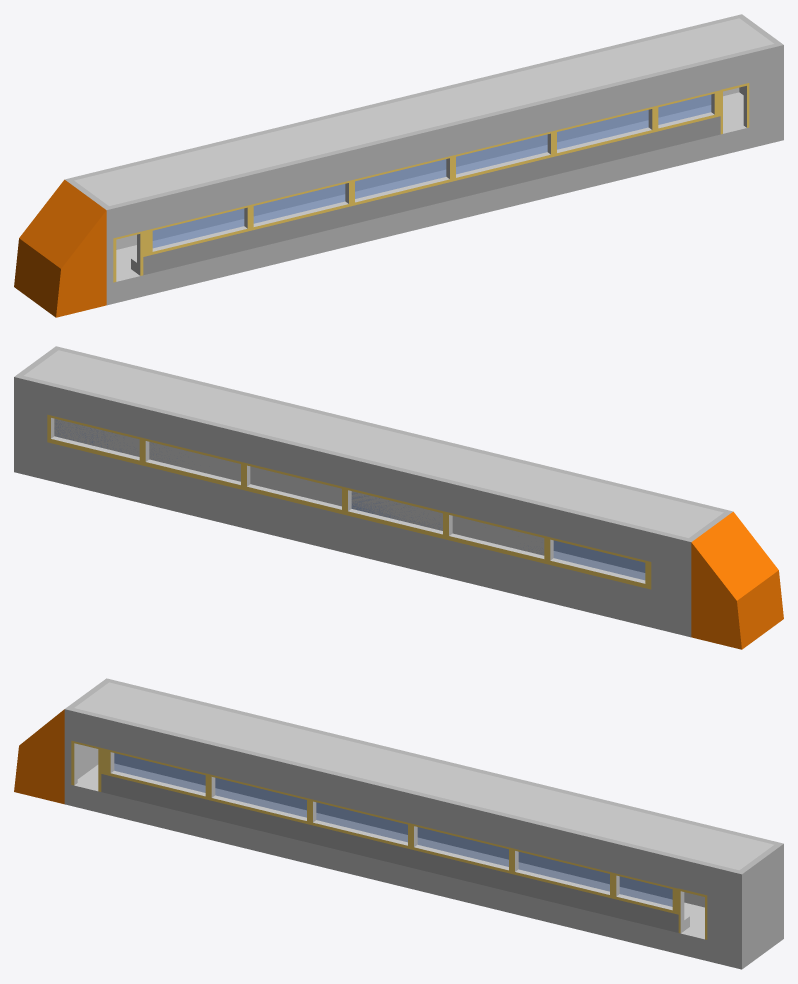
The model's file is Train-3.fbx.
3 views of the same model, one above another, from view 1: azimuth 30°, elevation 25°; view 2: azimuth 150°, elevation 25°; view 3: azimuth 330°, elevation 25° (orthographic).
Parts seen in each view (by area): view 1: Group1; view 2: Group1; view 3: Group1.
Boxes of the visible parts, x1=… form: Group1: x1=14, y1=14, x2=783, y2=317; Group1: x1=14, y1=346, x2=783, y2=649; Group1: x1=14, y1=678, x2=783, y2=969.
Size of the model in its own units: 3960 by 495 by 396.
